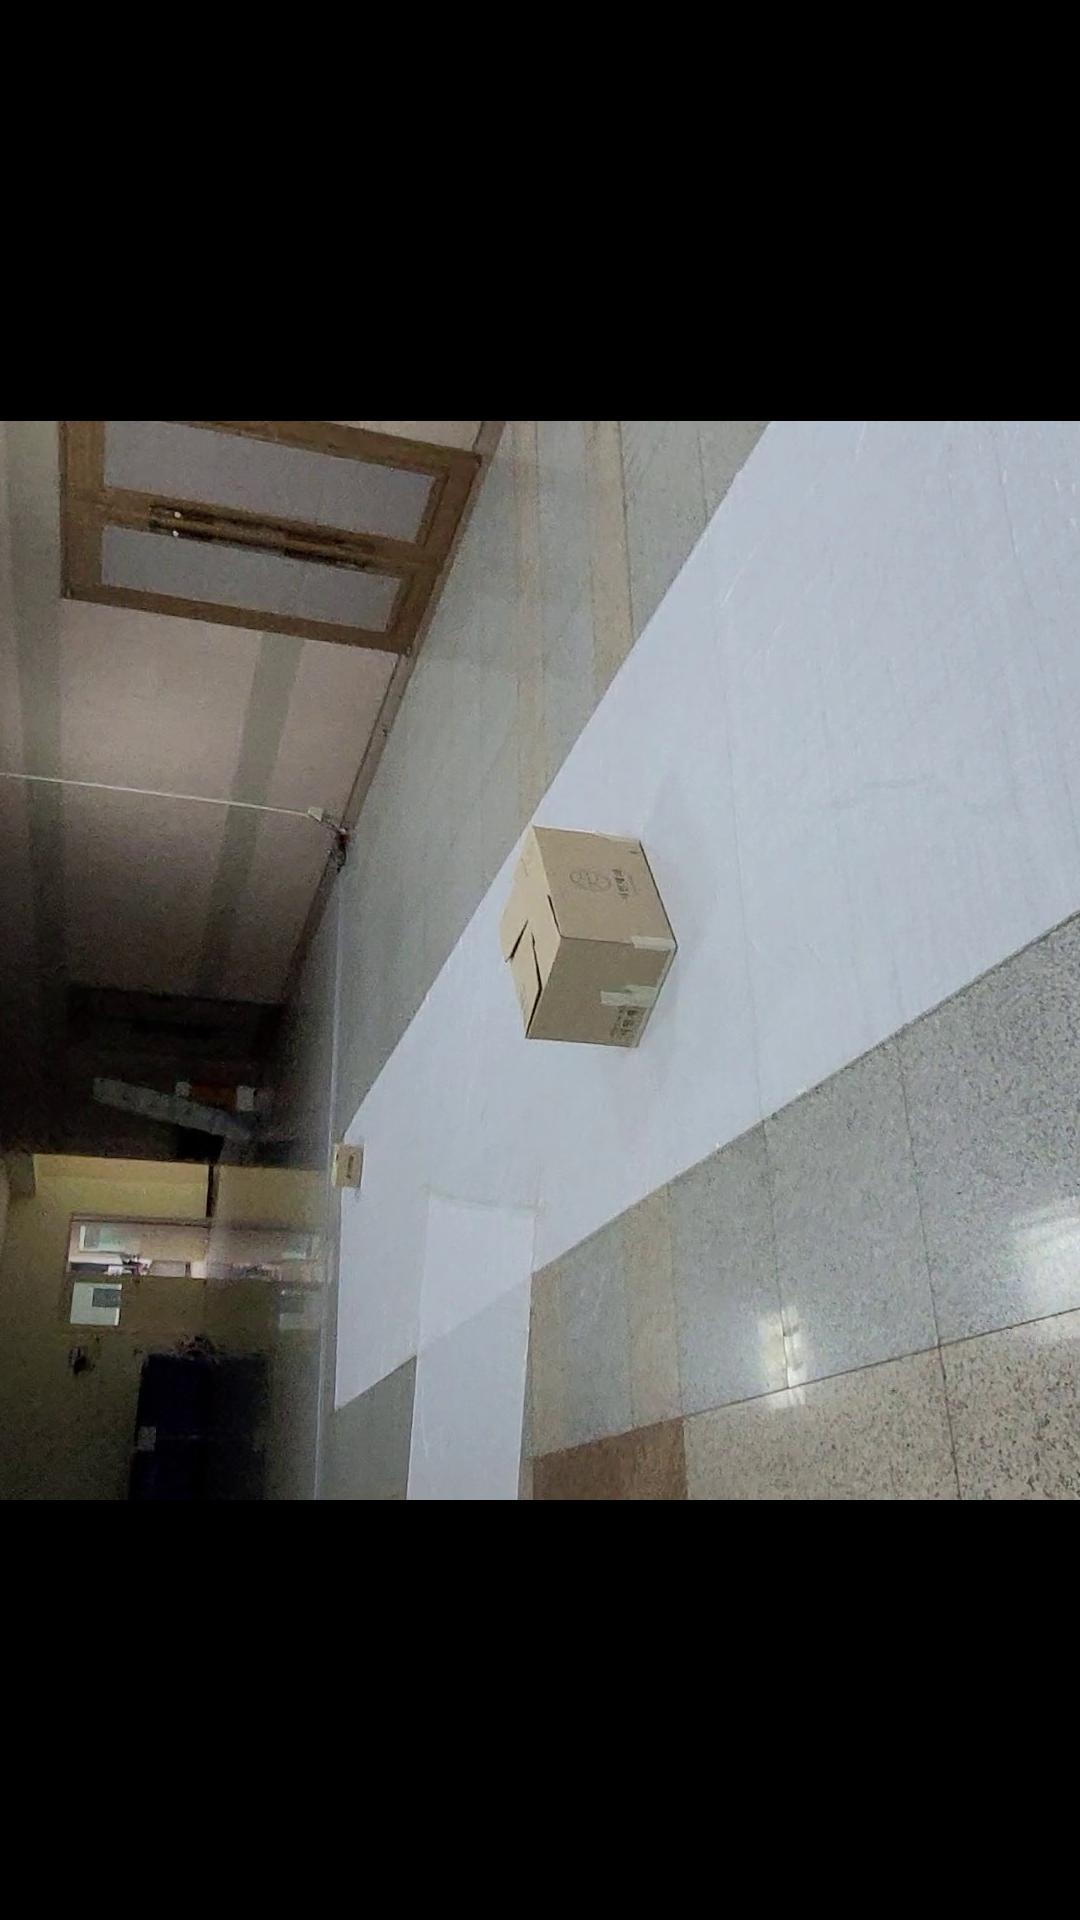Box: (477, 810, 678, 1059), (323, 1122, 368, 1193)
